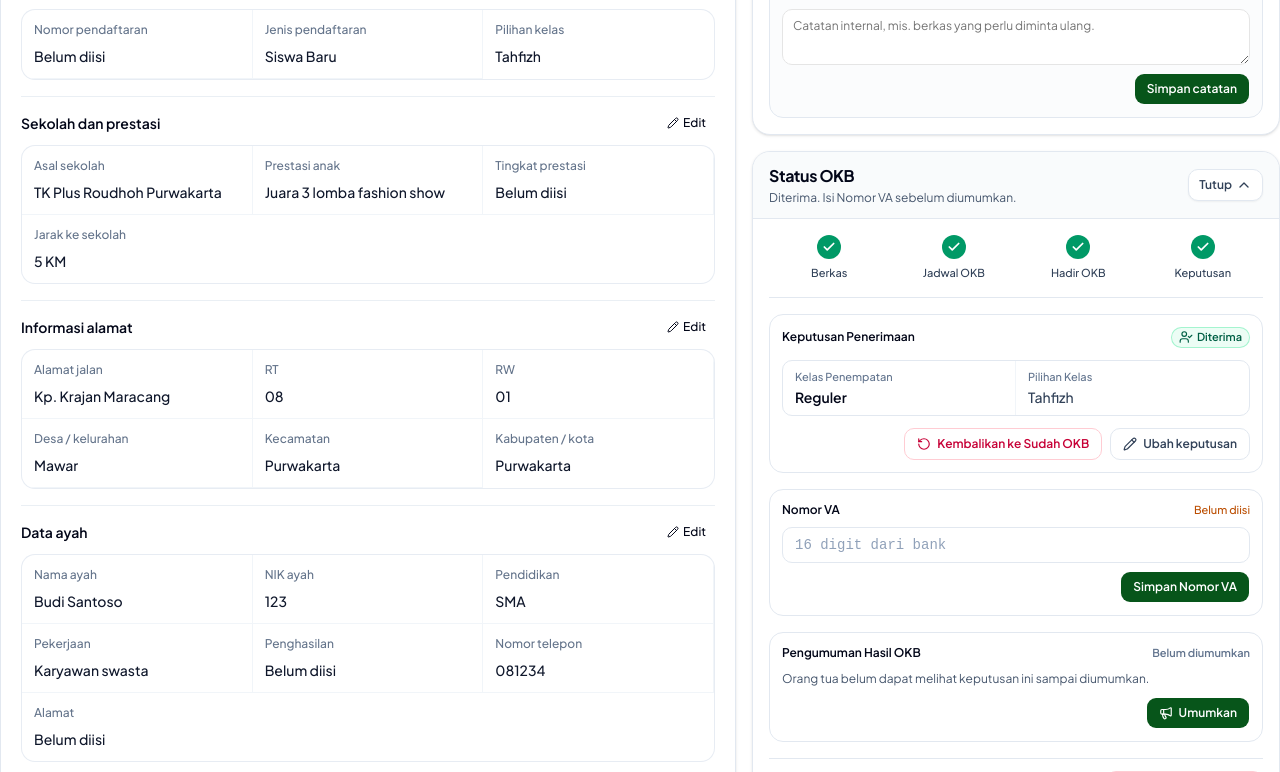
ParticipantDetail › shows the placement when it differs from the chosen class
(page scrolled)
Expected: the text "Reguler" is shown, left=795, top=388, right=847, bottom=406
Expected: the text "Tahfizh" in the row of "Reguler" is shown, left=1028, top=388, right=1074, bottom=406
Click the button "Ubah keputusan" at [1180, 444], box left=1110, top=428, right=1250, bottom=460
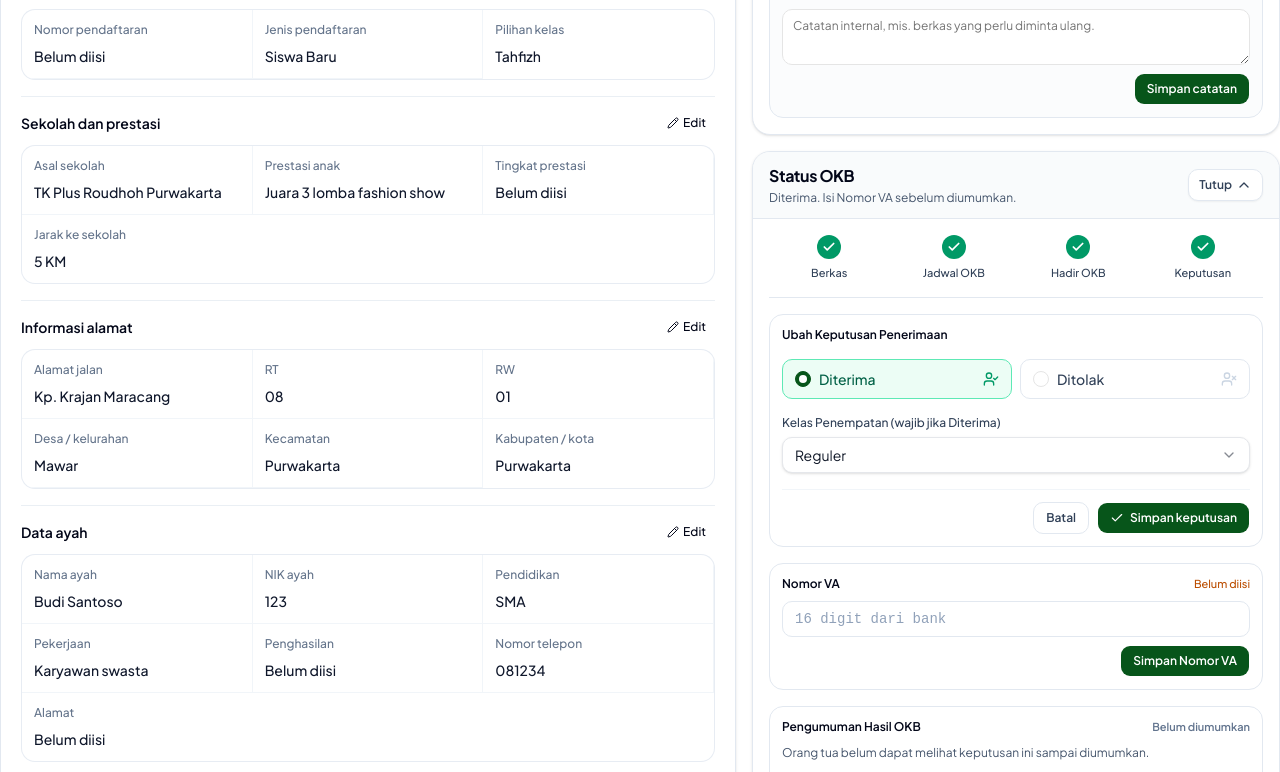
Result: the heading "Ubah Keputusan Penerimaan" is shown at left=782, top=327, right=948, bottom=342
Click the button "Batal" at [1061, 518], box left=1033, top=502, right=1089, bottom=534
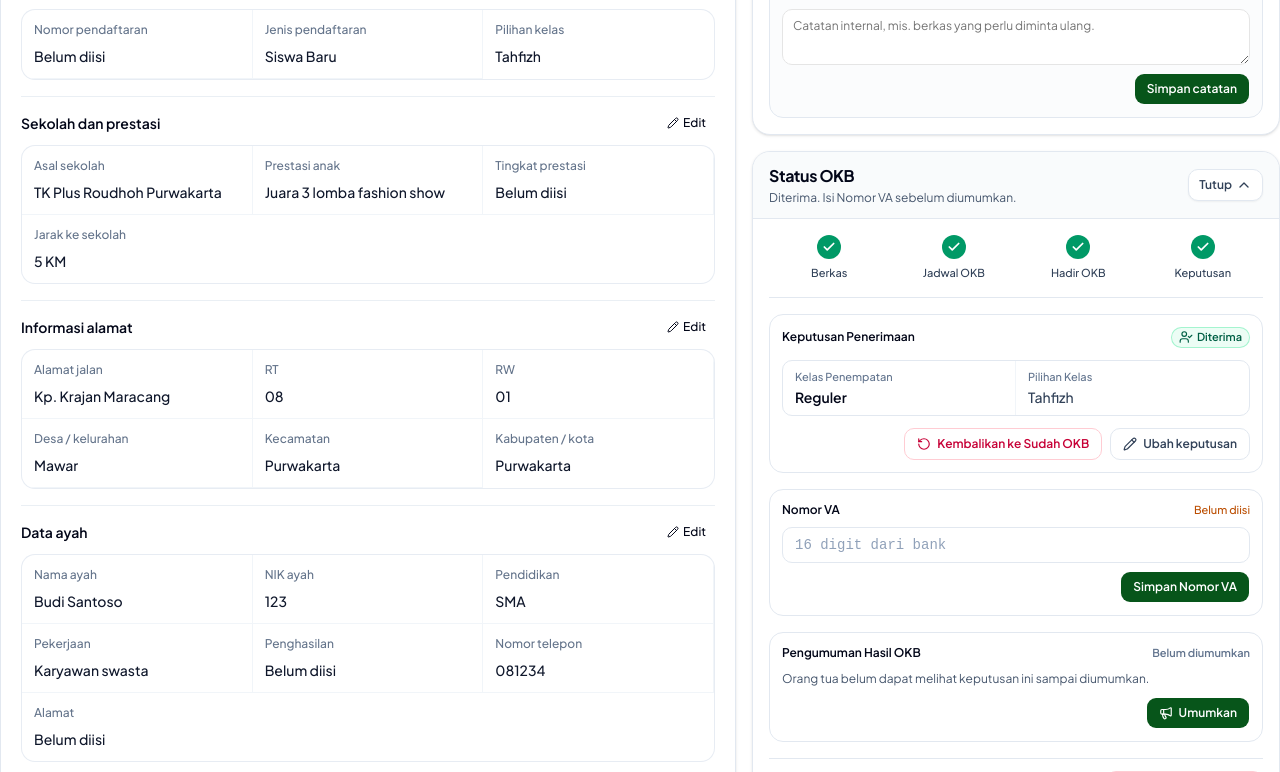
Result: the heading "Ubah Keputusan Penerimaan" is gone
